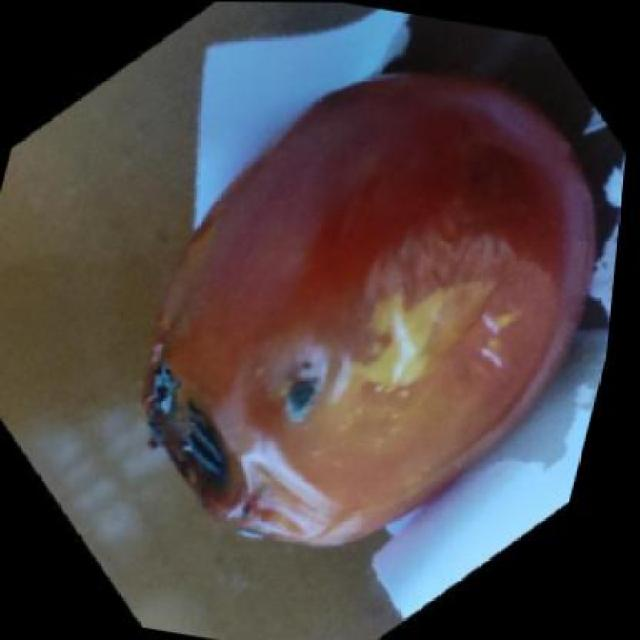overripe tomato: (130, 55, 600, 562)
